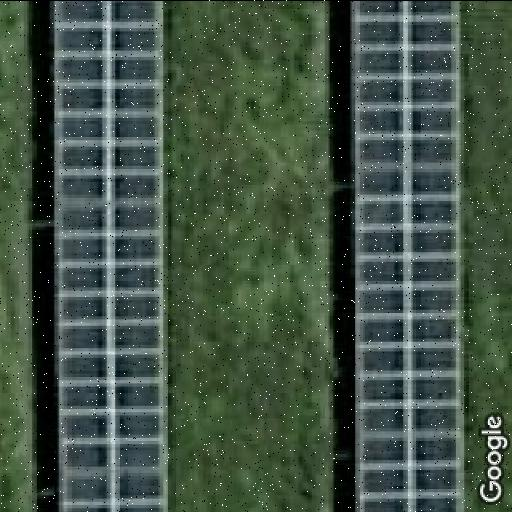solar-panel: (352, 0, 461, 512), (60, 0, 162, 512)
